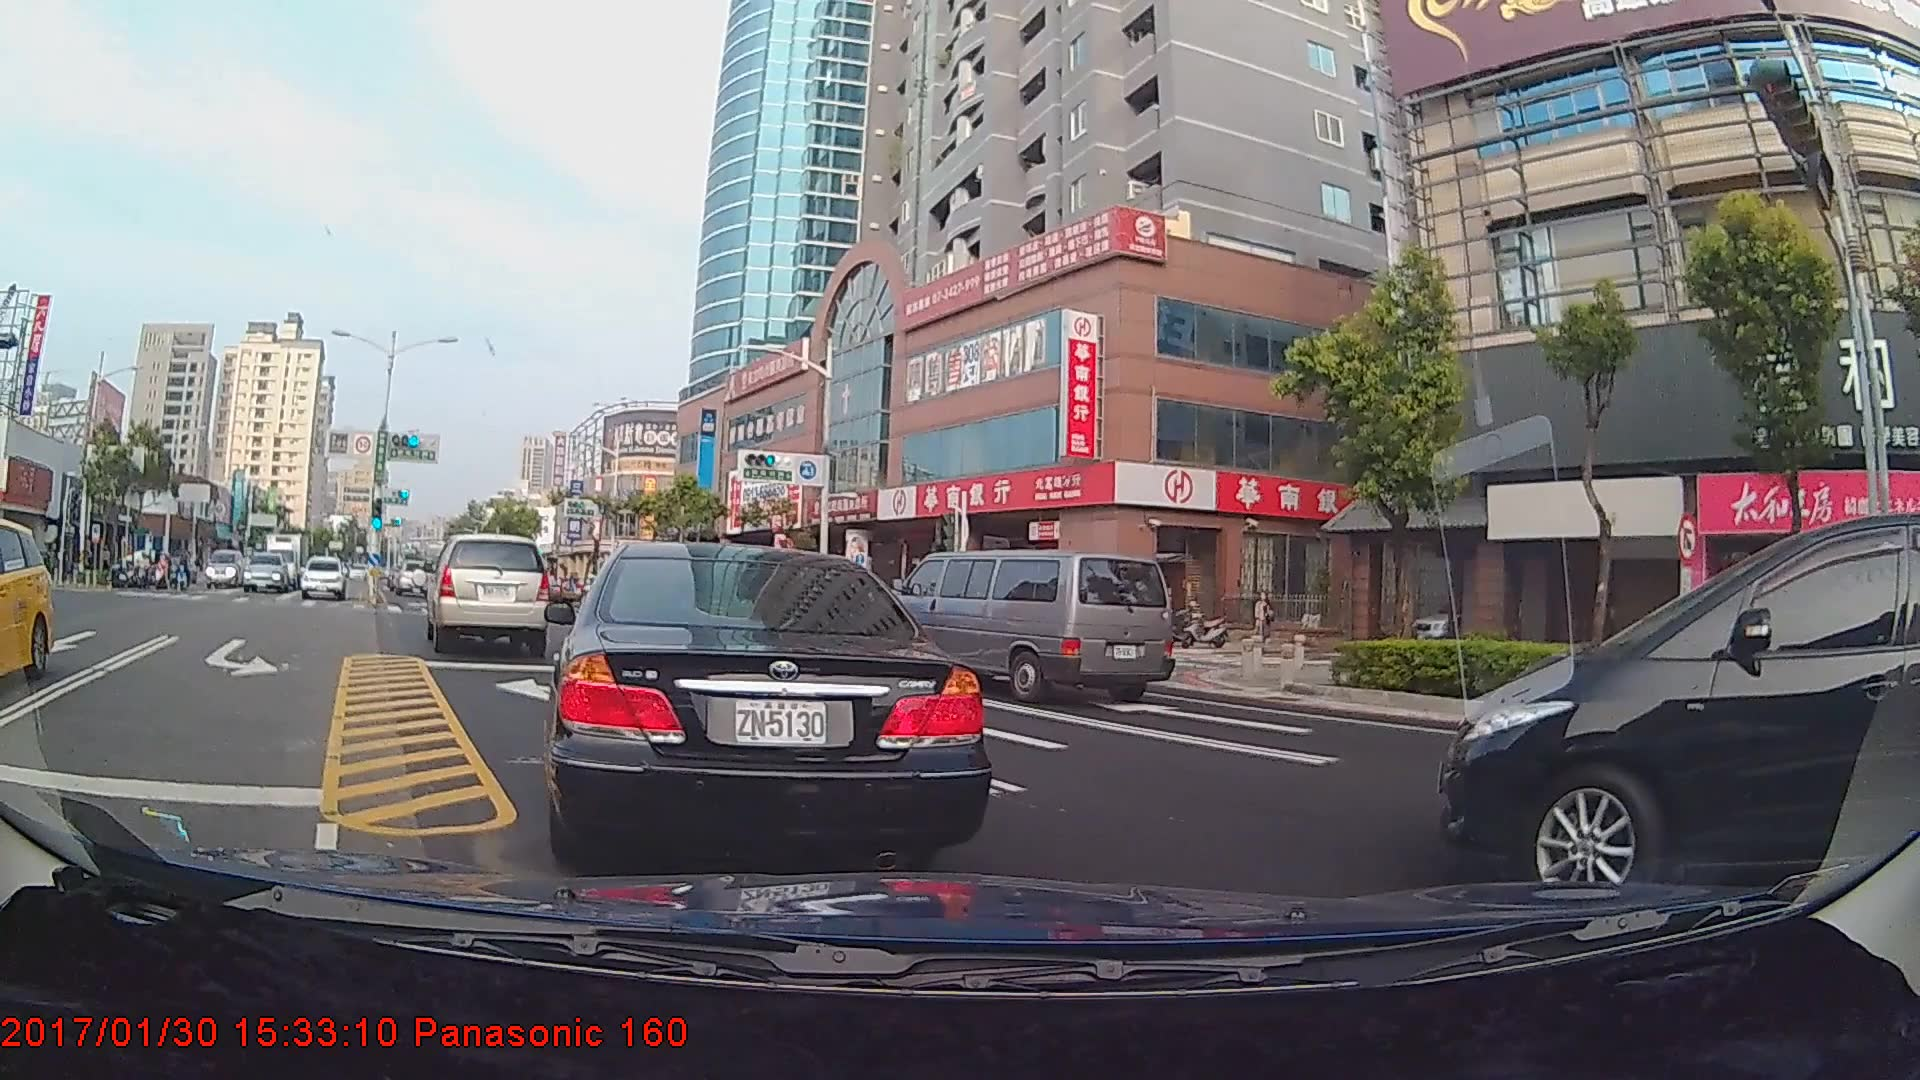pedestrian: (1251, 593, 1277, 655)
vehicle: (1413, 474, 1903, 899), (546, 536, 986, 870), (884, 549, 1172, 708), (424, 533, 558, 655), (0, 510, 53, 685), (258, 529, 311, 589), (300, 554, 348, 600), (243, 551, 292, 594), (205, 548, 245, 589), (390, 556, 430, 596)
